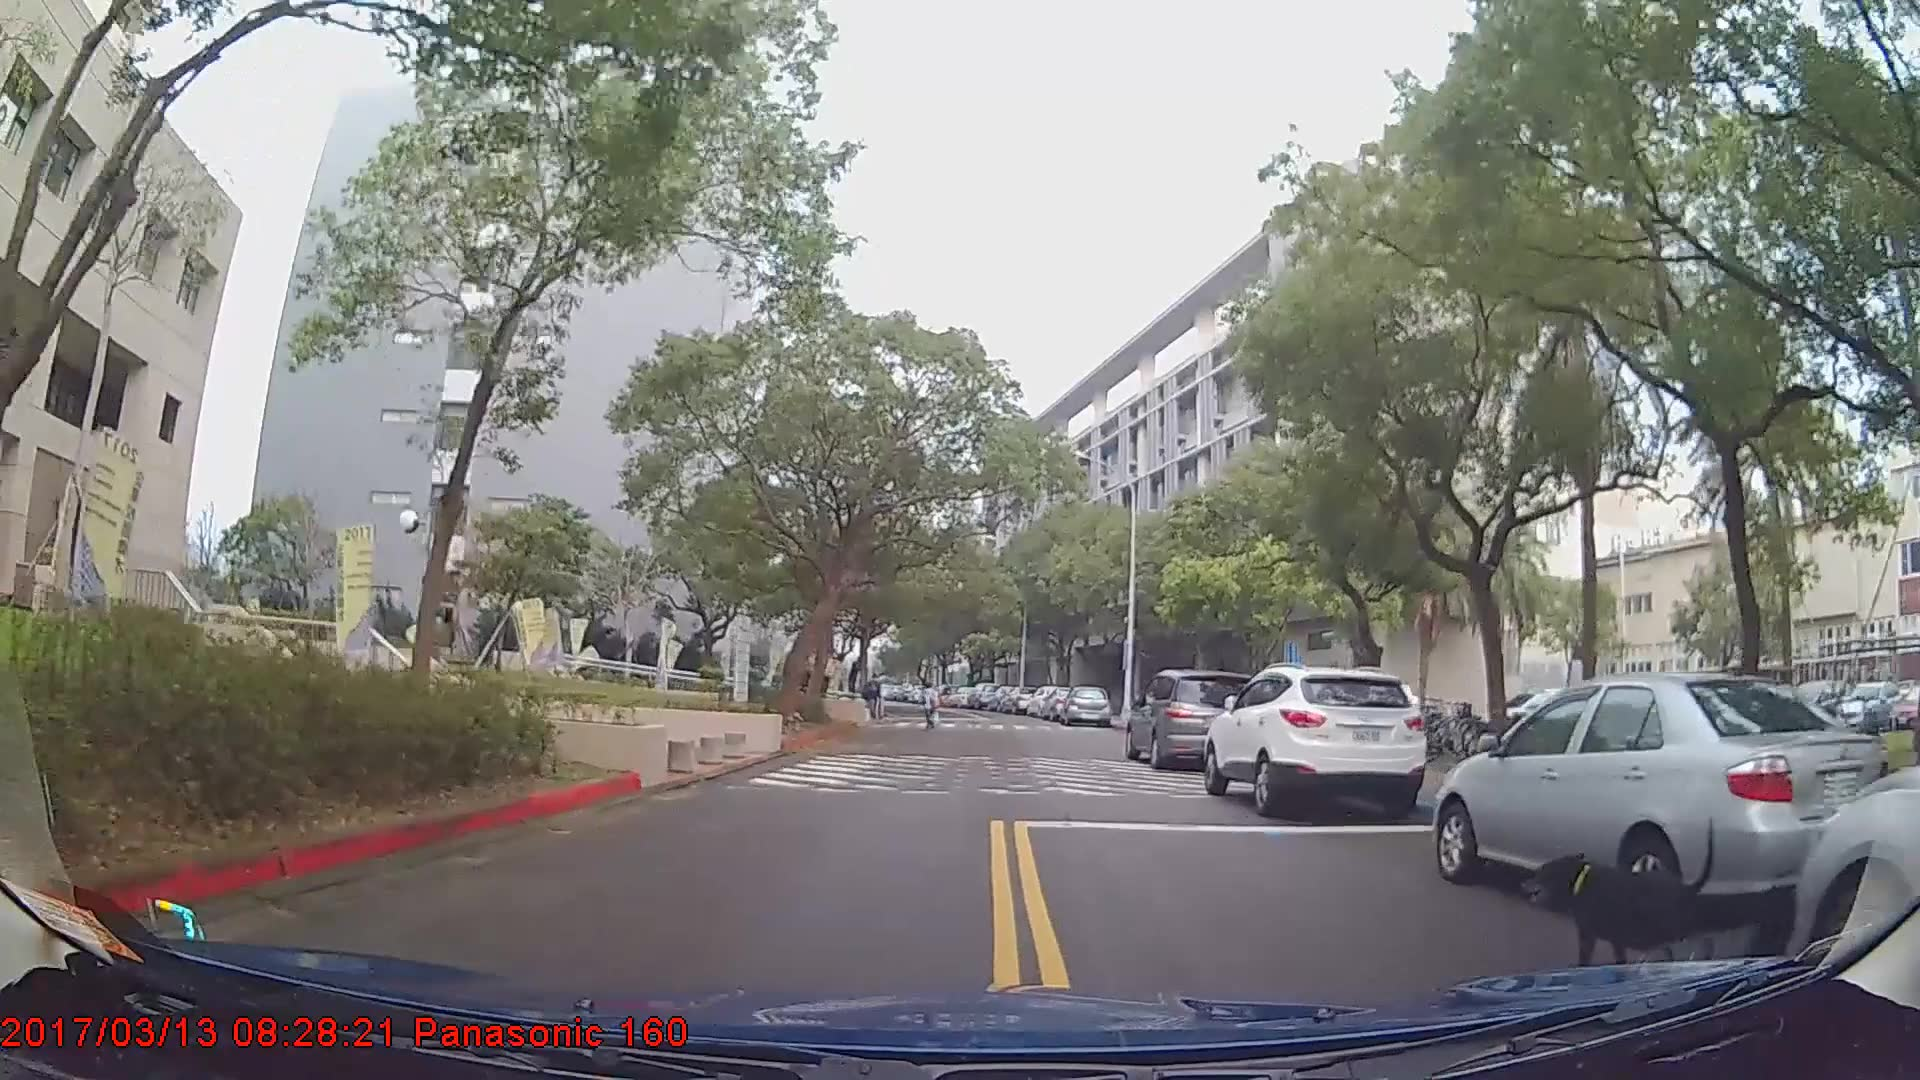pedestrian: (914, 680, 940, 732), (863, 674, 885, 723)
vehicle: (1428, 670, 1891, 924), (1200, 662, 1428, 821), (1124, 669, 1264, 768), (1061, 680, 1109, 726), (964, 679, 997, 709)
